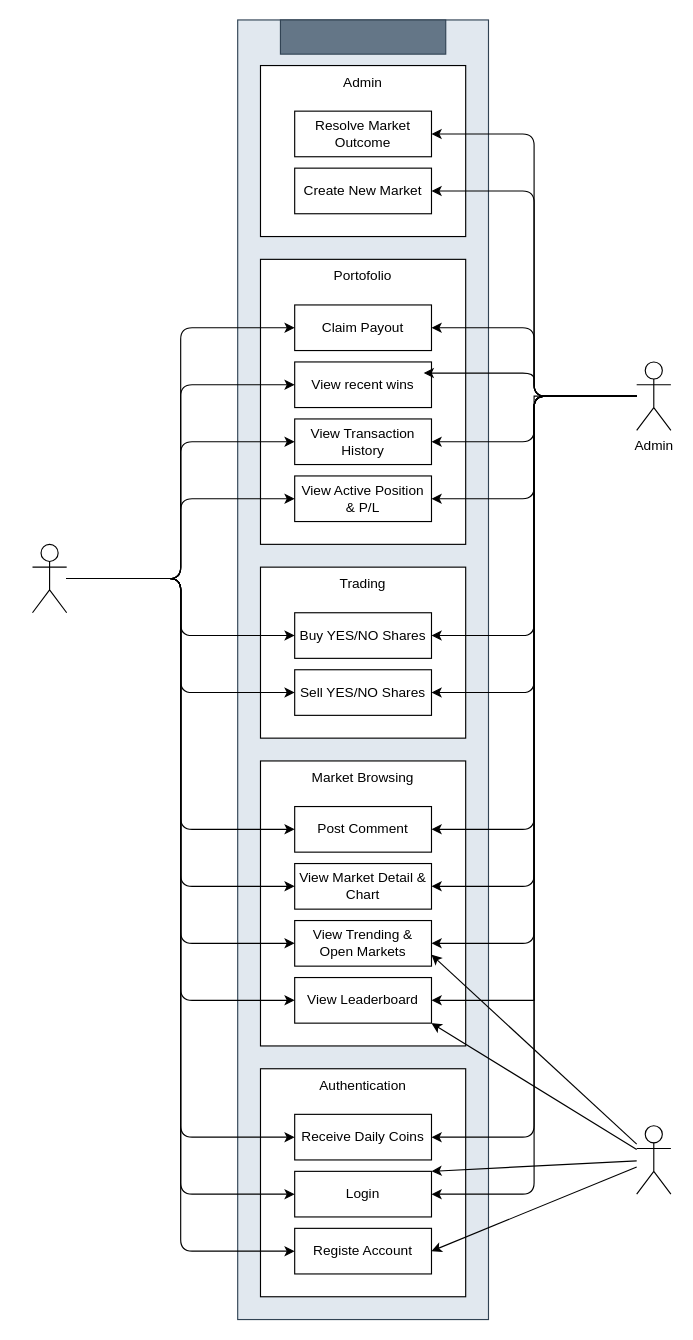
This 693x1340 diagram has some shape labels left out. Each missing label, with the centre of its shape:
"Guest" goes at point 653,1159.
"Jigsaw Market System" goes at point 362,36.
"Logged-in User" goes at point 49,578.
